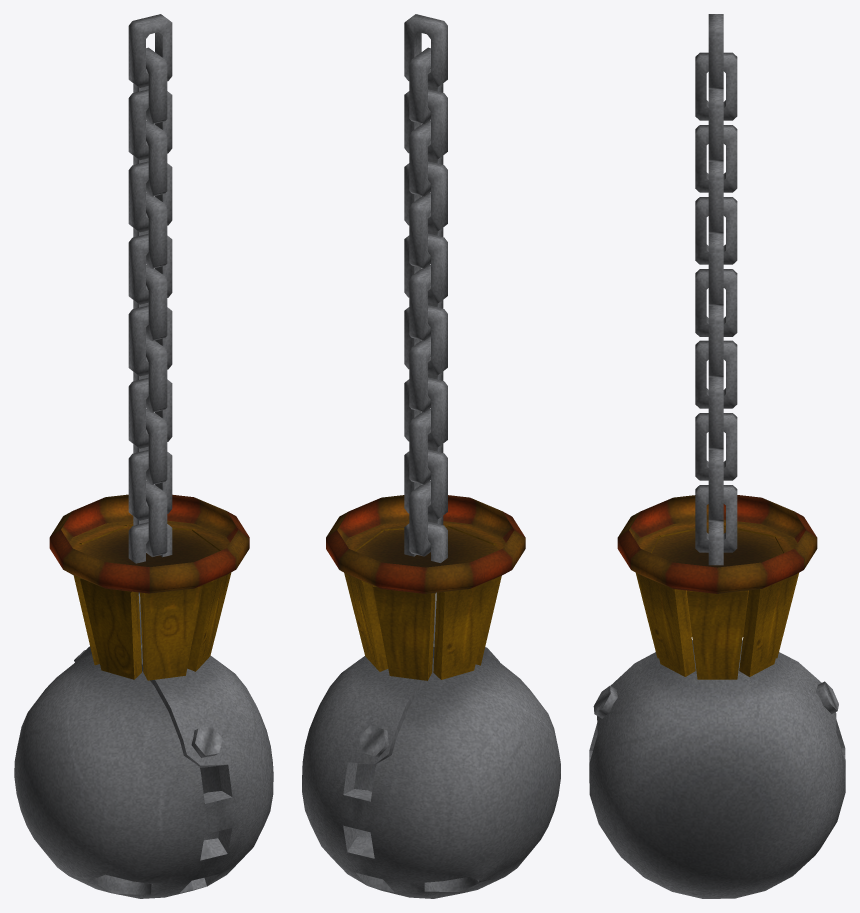
Rendered from Skull_Death_Trap.FBX.
The picture shows the model from 3 angles, left to right: view 1: azimuth 30°, elevation 25°; view 2: azimuth 150°, elevation 25°; view 3: azimuth 270°, elevation 25°; orthographic projection.
Visible parts, largest first — view 1: Skull_Biting_LowerJaw, Skull_Biting_UpperJaw, Skull_Biting_Mount; view 2: Skull_Biting_LowerJaw, Skull_Biting_UpperJaw, Skull_Biting_Mount; view 3: Skull_Biting_LowerJaw, Skull_Biting_Mount.
Boxes of the visible parts, x1=… form: Skull_Biting_LowerJaw: x1=74, y1=14, x2=273, y2=893; Skull_Biting_UpperJaw: x1=14, y1=653, x2=218, y2=898; Skull_Biting_Mount: x1=49, y1=494, x2=249, y2=680; Skull_Biting_LowerJaw: x1=302, y1=14, x2=499, y2=893; Skull_Biting_UpperJaw: x1=357, y1=654, x2=560, y2=898; Skull_Biting_Mount: x1=326, y1=495, x2=525, y2=680; Skull_Biting_LowerJaw: x1=589, y1=14, x2=845, y2=898; Skull_Biting_Mount: x1=617, y1=495, x2=817, y2=679.
Bounding box in the file's own units: 337 × 1253 × 337.
